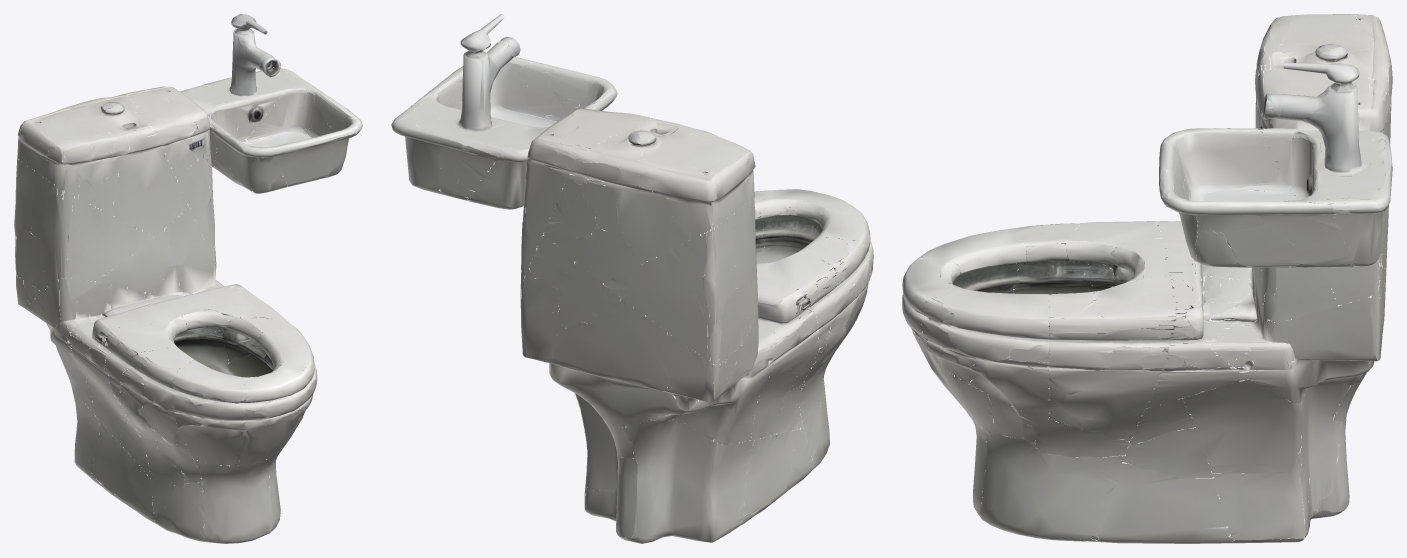
The model's file is toilet.glb.
3 views of the same model, side by side, from view 1: azimuth 30°, elevation 25°; view 2: azimuth 150°, elevation 25°; view 3: azimuth 270°, elevation 25° (orthographic). The views are drawn at different scales.
Visible parts, largest first — view 1: toilet; view 2: toilet; view 3: toilet.
Part boxes in pixels (x1,y1,x2,y2): toilet: (14,14,362,543); toilet: (391,14,873,543); toilet: (902,14,1392,543).
Bounding box in the file's own units: 0.55 × 0.7479 × 0.627.
Materials: 1 (1 with a texture image).
